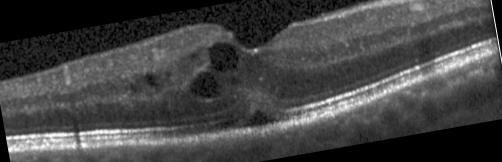intraretinal_cyst: (208, 41, 239, 73), (189, 70, 222, 99), (144, 71, 159, 87), (230, 77, 243, 85), (129, 81, 137, 94), (164, 70, 172, 79), (190, 53, 197, 60)
subretinal_fluid: (239, 109, 278, 129)
